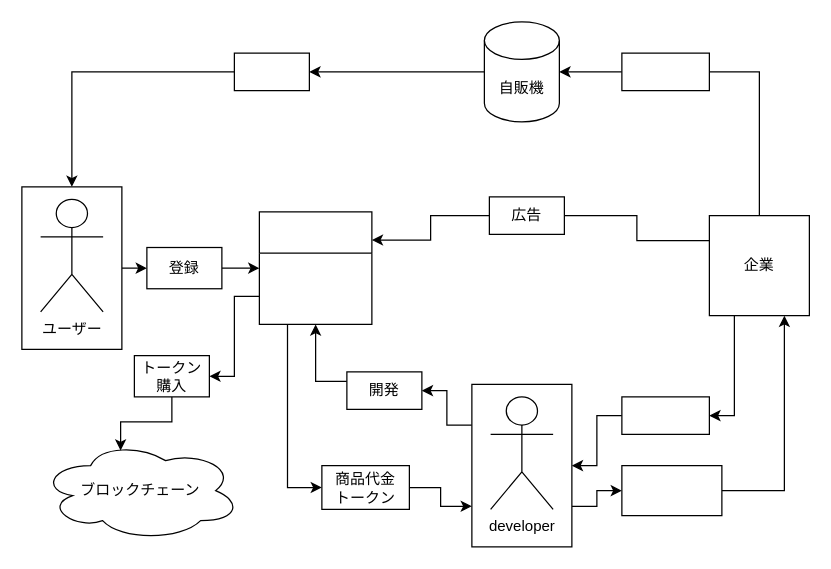
This 831x569 diagram has some shape labels left out. The shapes that lost their labels are listed below. From the top down, each one's centre as x and y in pixels, then its label:
At [271,71]: "商品".
At [665,71]: "商品補充".
At [315,267]: "ウォレット アプリ".
At [665,415]: "広告費".
At [671,490]: "月一でまとめて支払い".
